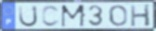3: (88, 5, 104, 28)
C: (41, 5, 62, 28)
H: (130, 3, 152, 28)
M: (60, 4, 87, 29)
O: (108, 5, 129, 27)
U: (18, 5, 39, 28)
